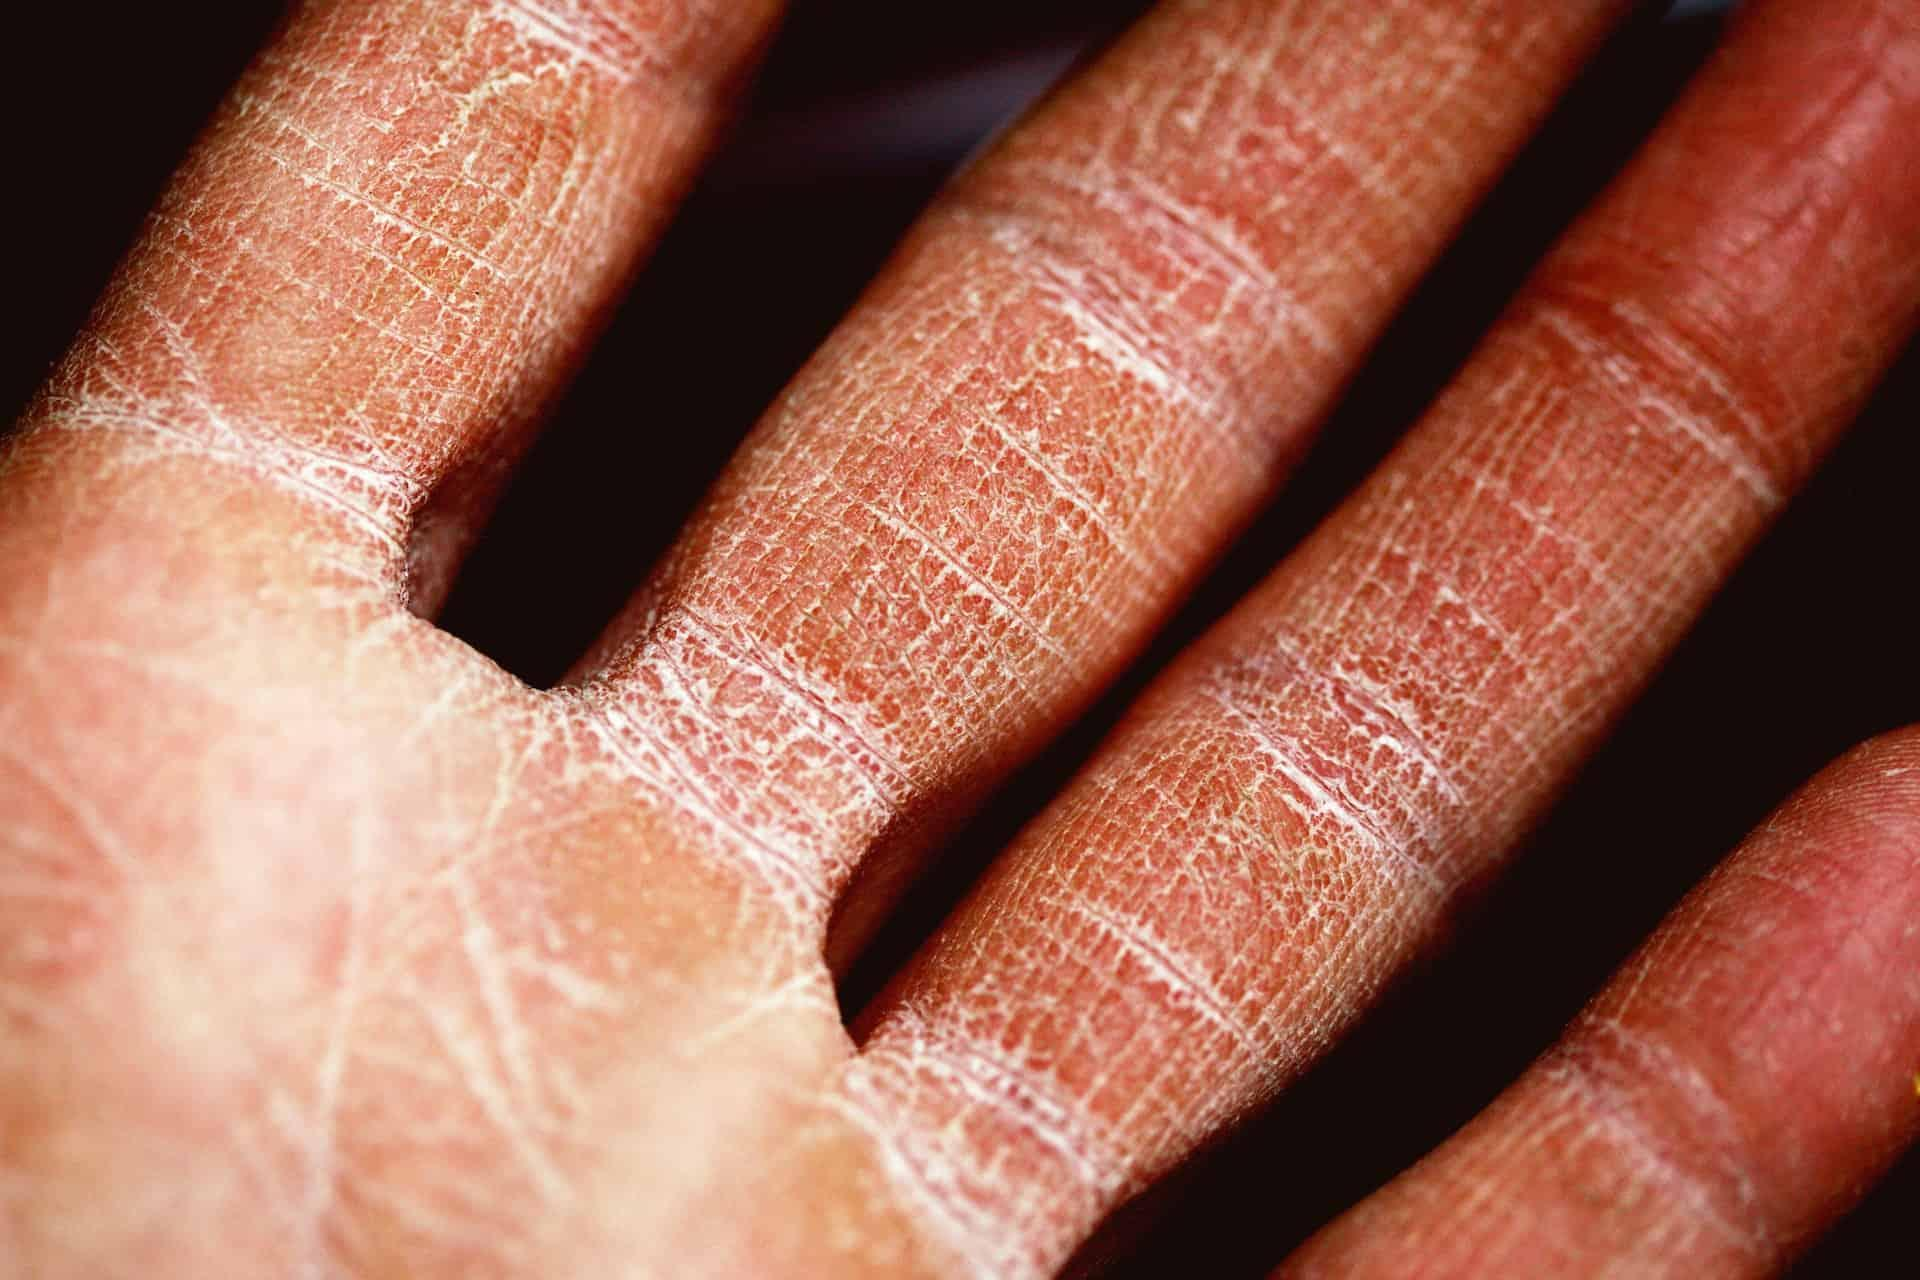Dry-Skin: (121, 237, 1920, 1213)
